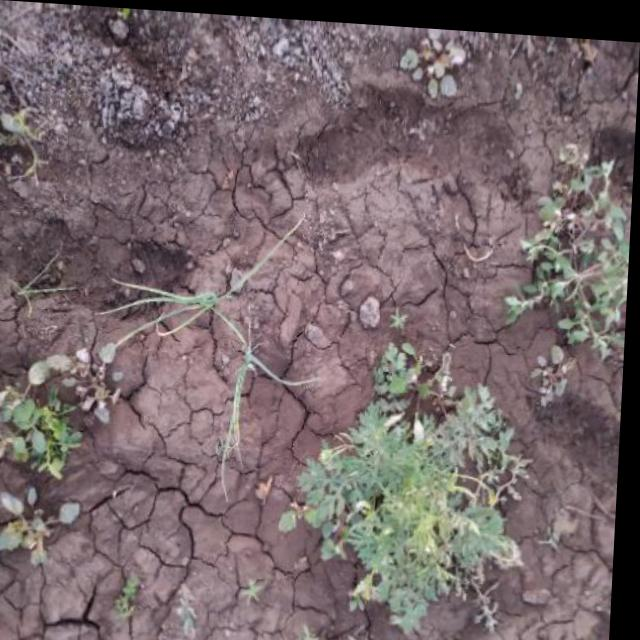weed: (273, 336, 543, 637), (109, 215, 319, 355), (0, 350, 127, 558), (525, 139, 634, 348)
